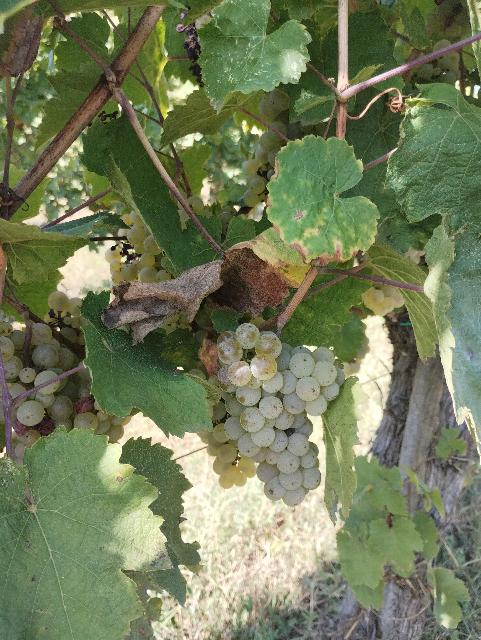grapes: (218, 322, 346, 506)
